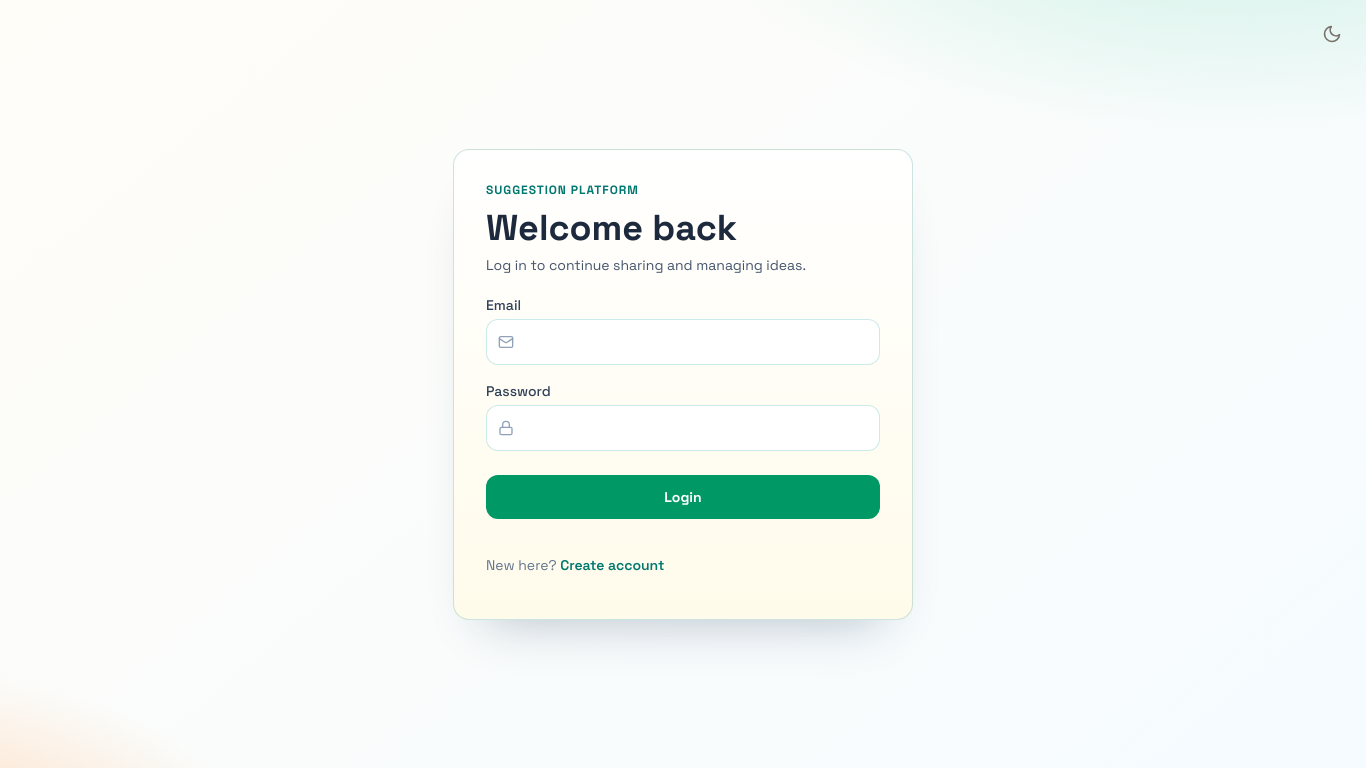
Test case: Login Component › shows field error from API response
Step 1. Type "bad" into the field labelled "Email" → (683, 342), box x1=486 y1=318 x2=880 y2=364
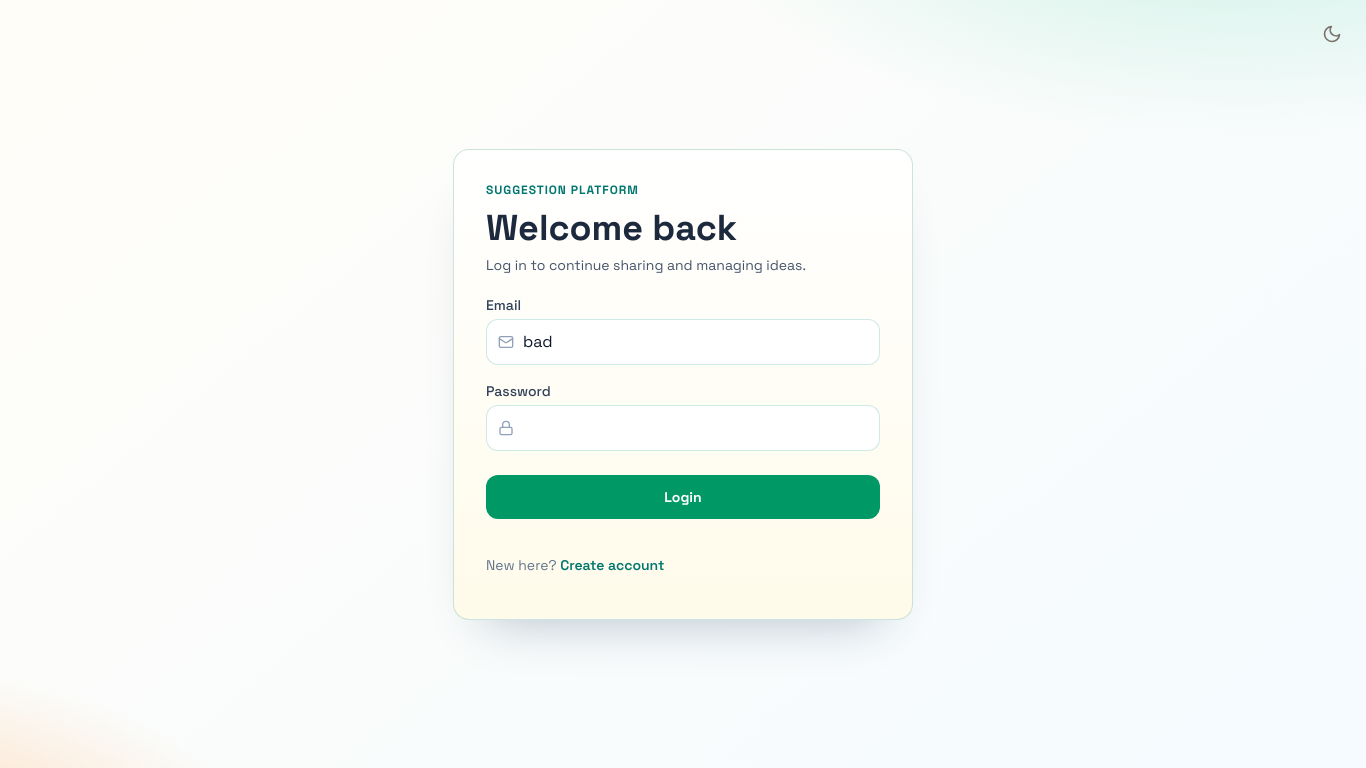
Step 2. Type "p" into the password field labelled "Password" → (683, 428), box x1=486 y1=404 x2=880 y2=450
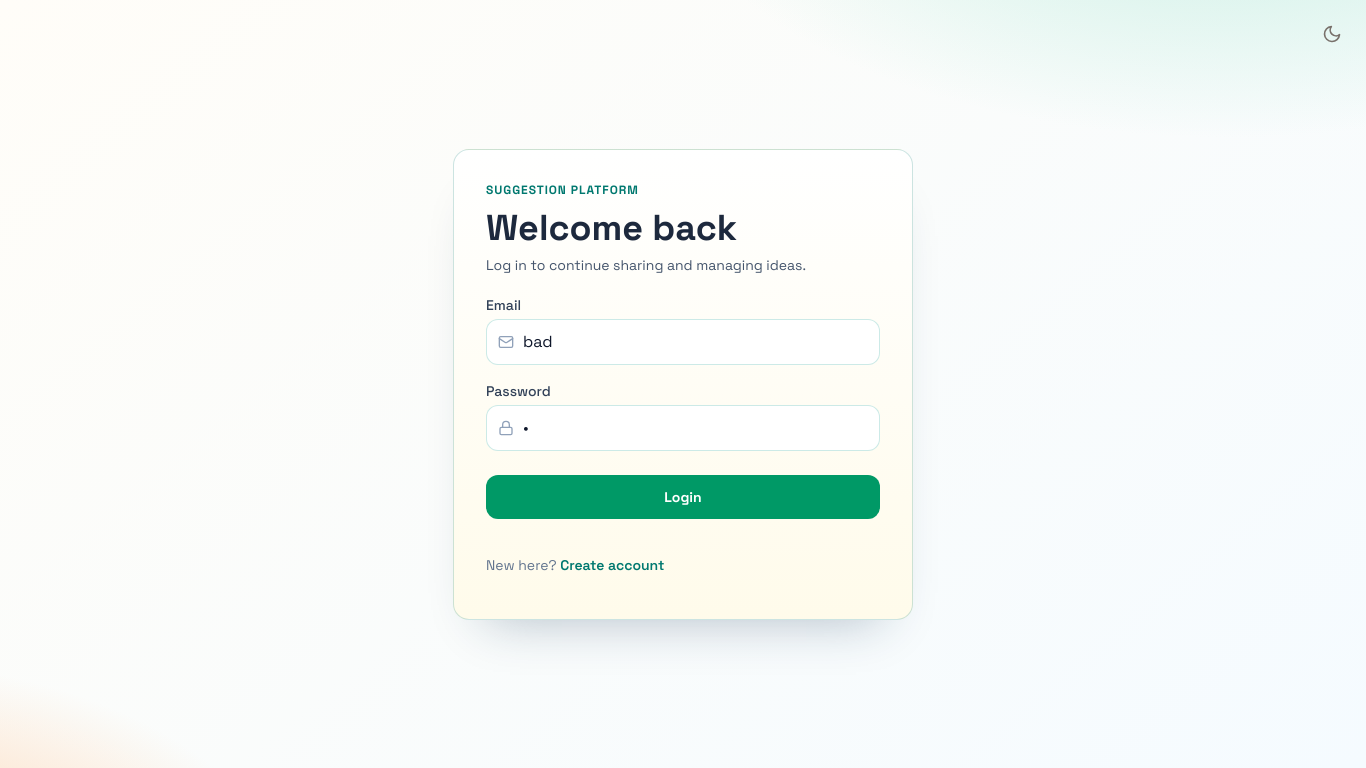
Step 3. Click the button "Login" → (683, 496), box x1=486 y1=474 x2=880 y2=518
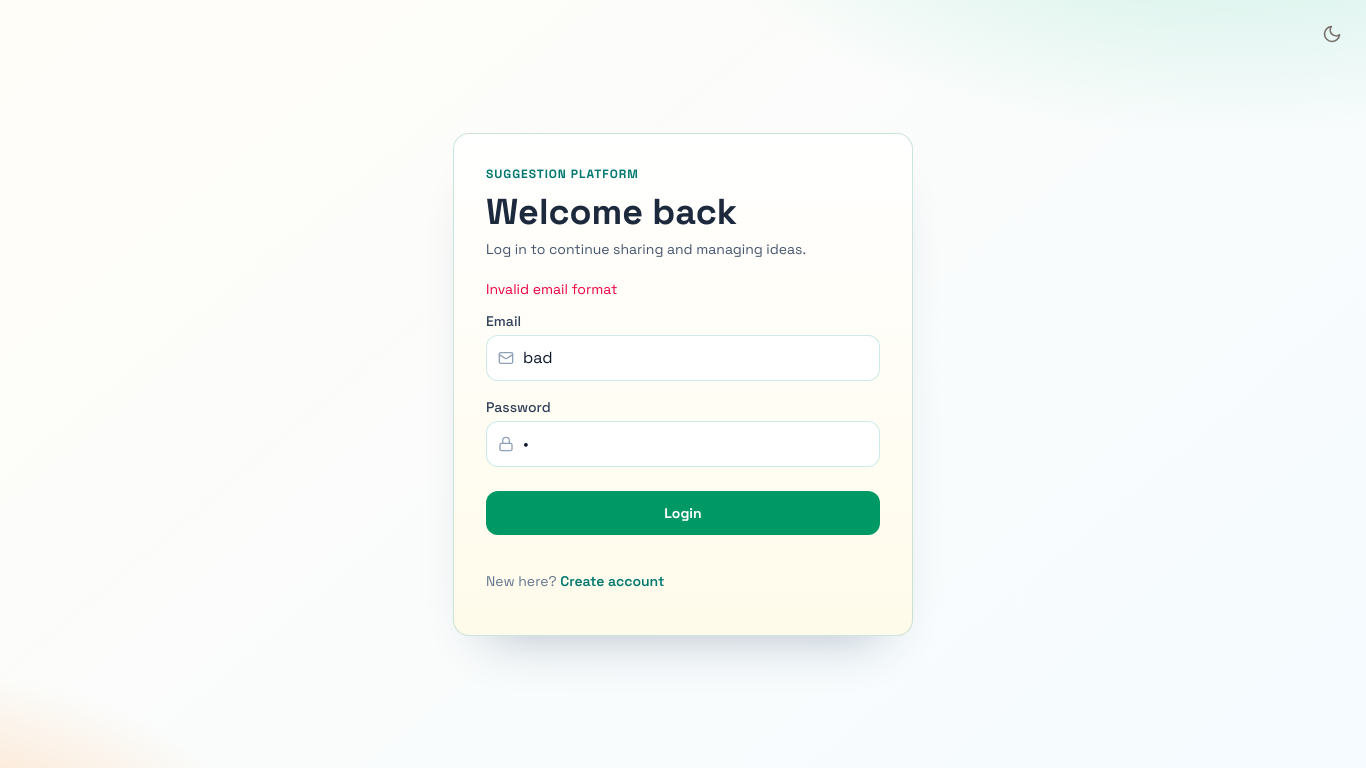
Result: the text "Invalid email format" is shown at x1=486 y1=280 x2=617 y2=298
